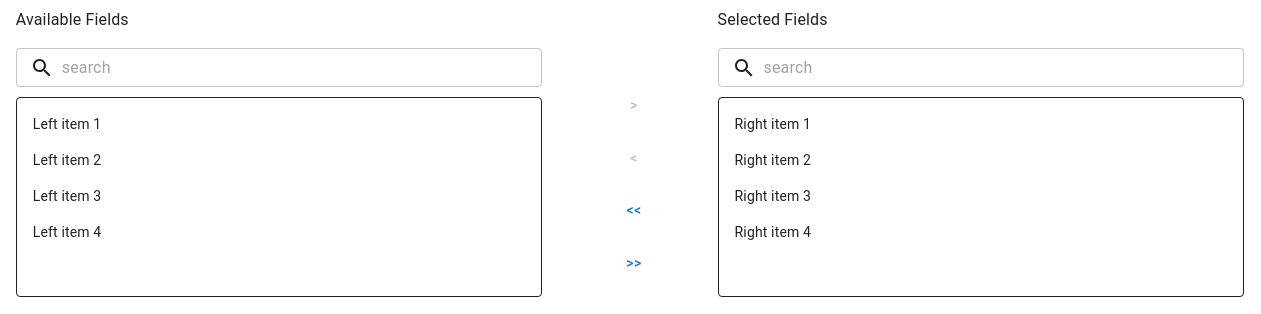
Test: TransferList › should be able to move all items from right to left
Step 1. Click the button named "move all left" → (634, 210), box x1=602 y1=192 x2=666 y2=228
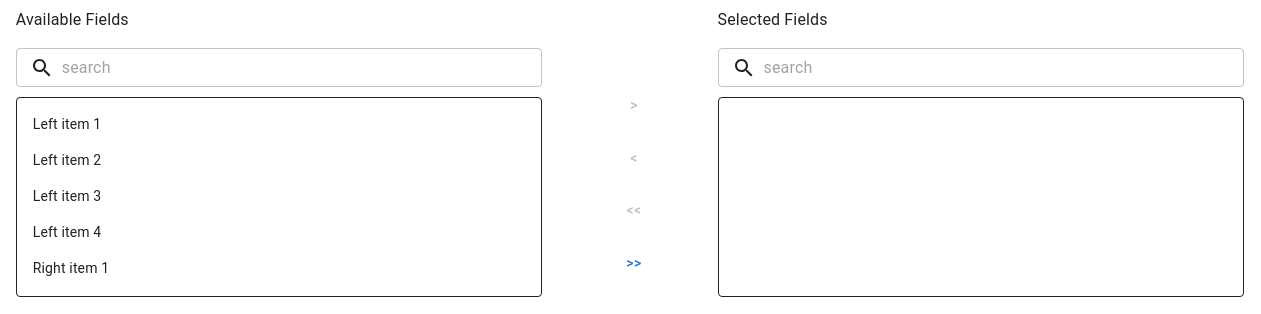
expect no the button "Right item 2" are shown: met
